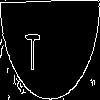T: (25, 25, 40, 70)
